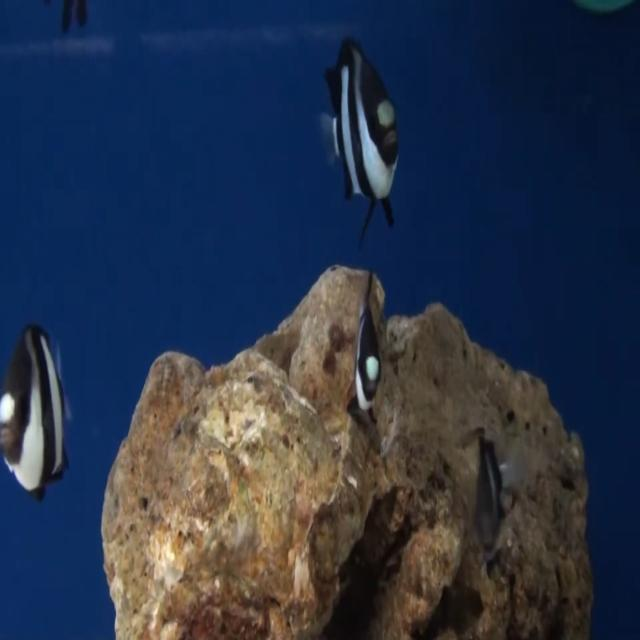ThreeStripedDamselfish: (321, 38, 399, 251), (0, 324, 69, 504)
